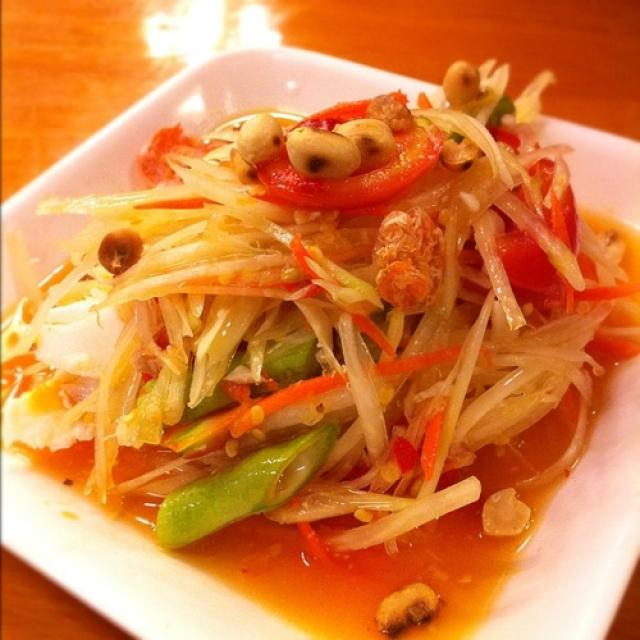蔬菜料理: (13, 42, 617, 631)
